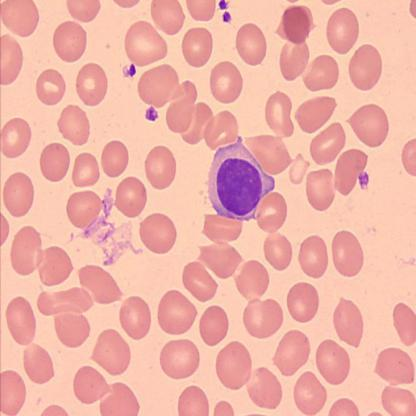Atypical lymphocyte: (207, 136, 277, 221)
